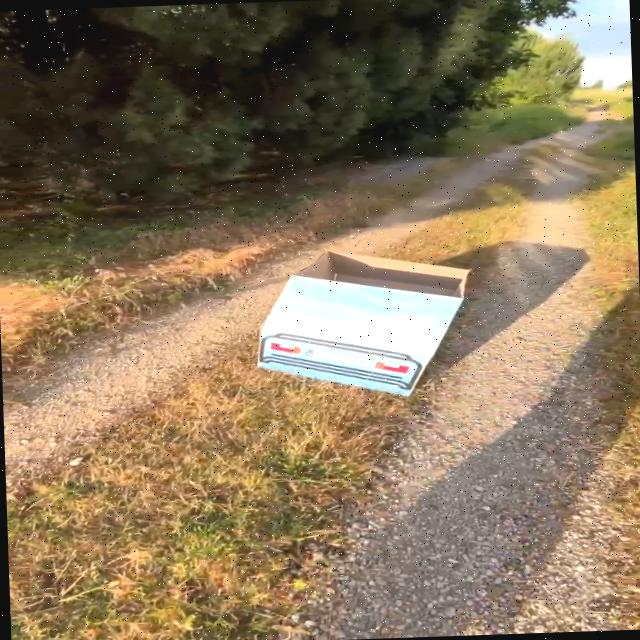blue_car: (182, 226, 551, 439)
